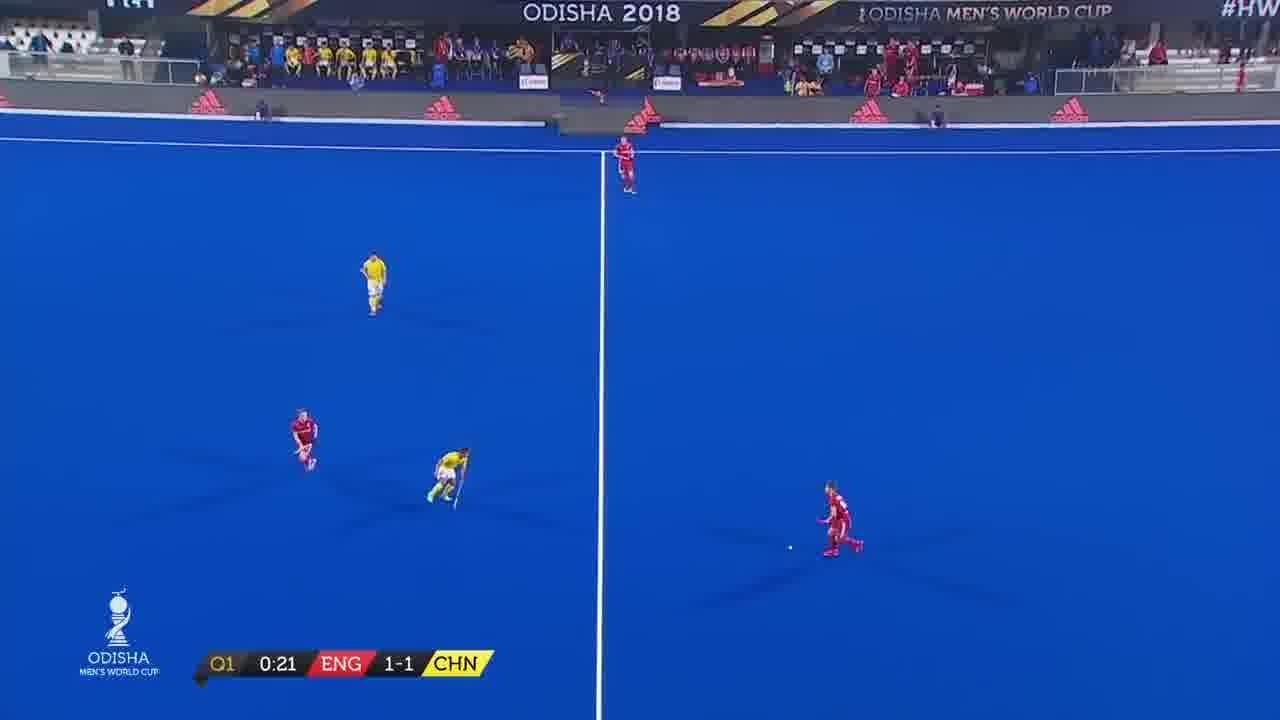ball: (782, 542, 798, 557)
